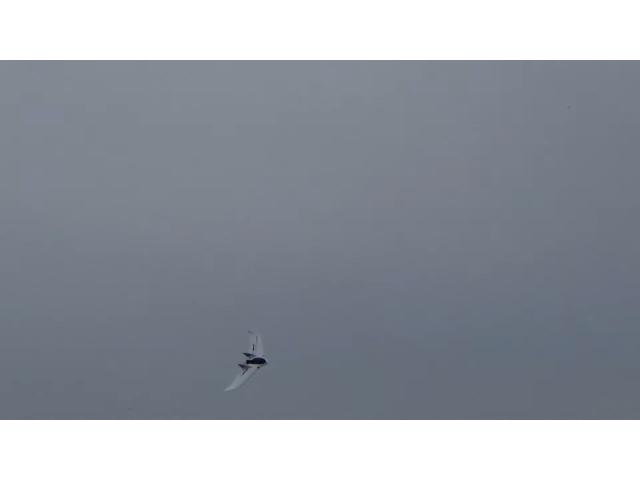Anti-Drone: (224, 330, 270, 390)
